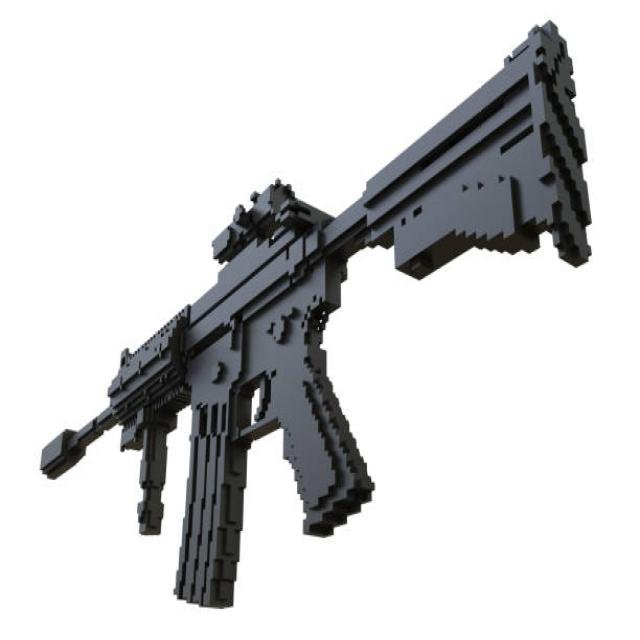rifle: (16, 19, 604, 621)
